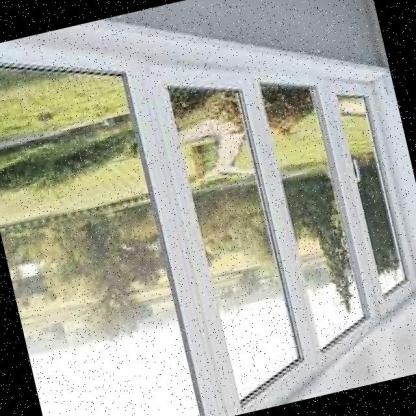Window: (0, 18, 208, 416), (158, 59, 317, 413), (250, 57, 380, 363), (325, 79, 416, 300)
